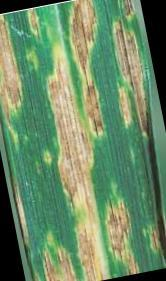Wheat: (33, 131, 163, 266), (45, 1, 154, 124), (1, 25, 42, 119)
